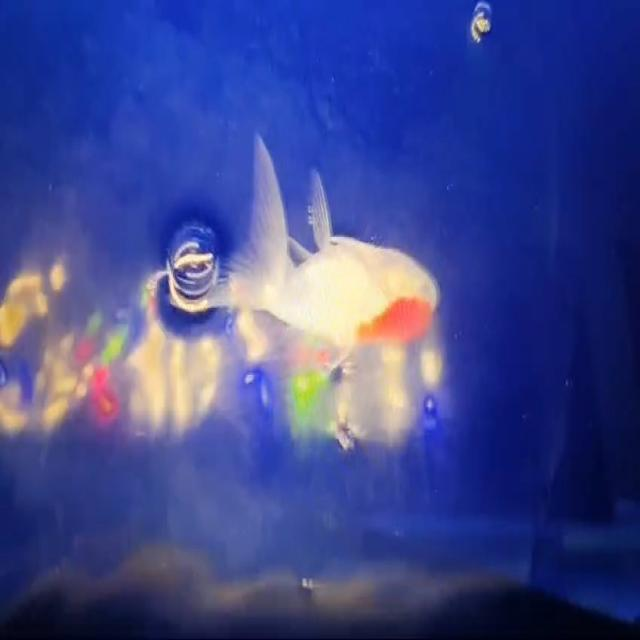fish: (217, 126, 442, 390)
